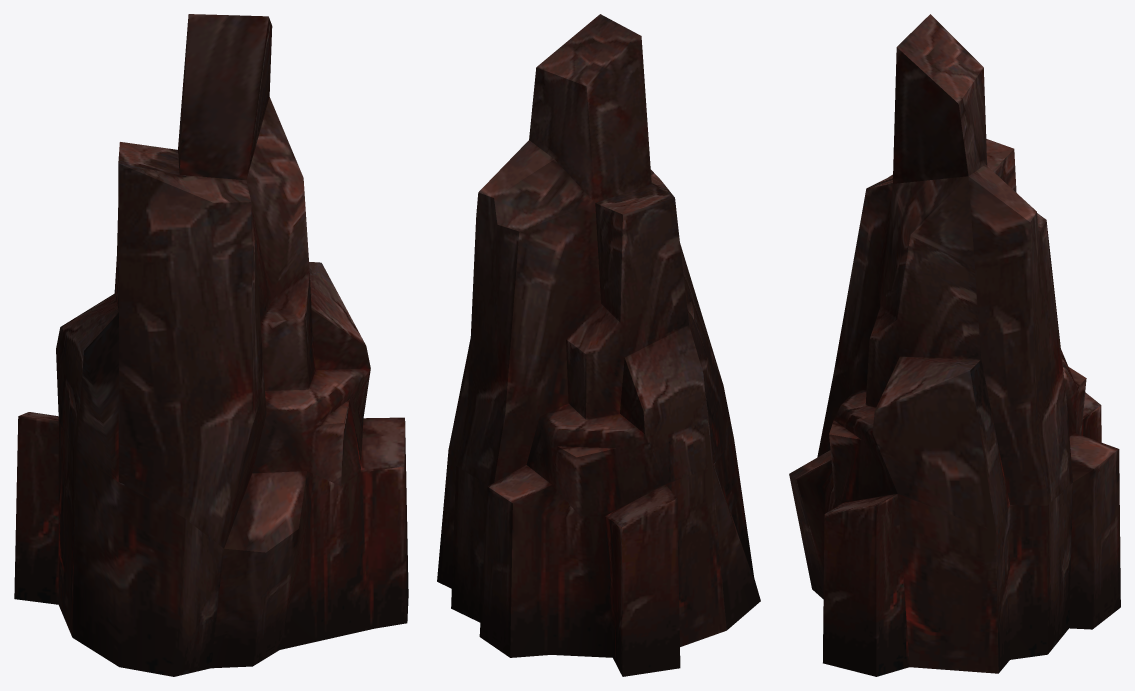
File: hs_shan_17.FBX
3 views of the same model, side by side, from view 1: azimuth 30°, elevation 25°; view 2: azimuth 150°, elevation 25°; view 3: azimuth 270°, elevation 25° (orthographic). The views are drawn at different scales.
Parts seen in each view (by area): view 1: hs_shan_17; view 2: hs_shan_17; view 3: hs_shan_17.
Part boxes in pixels (x1,y1,x2,y2): hs_shan_17: (14,14,408,676); hs_shan_17: (437,14,760,676); hs_shan_17: (789,14,1120,676).
Bounding box in the file's own units: 6386 × 12368 × 6474.
